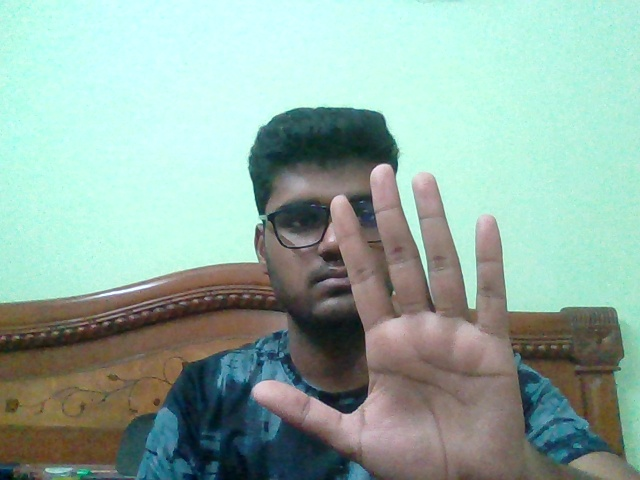Paper: (251, 164, 525, 480)
